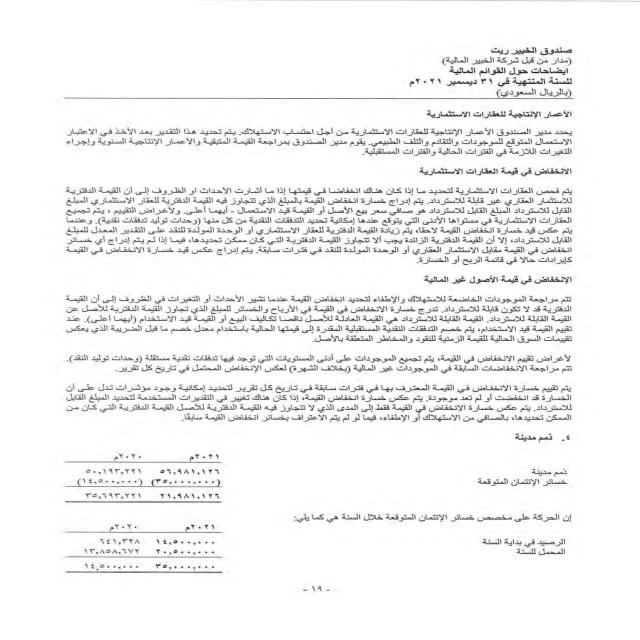notes: (433, 67, 579, 76)
table: (35, 438, 240, 587)
